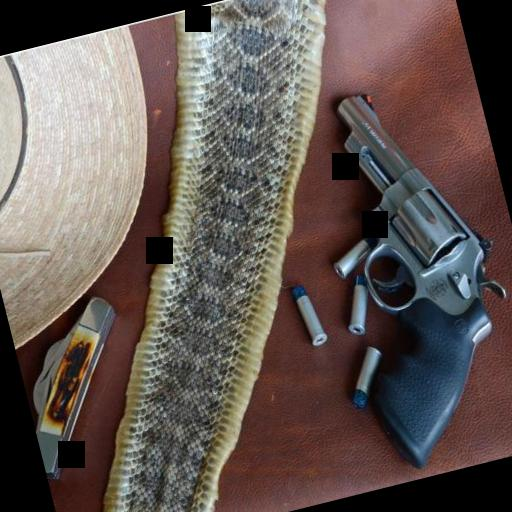Handgun: (287, 43, 512, 471)
